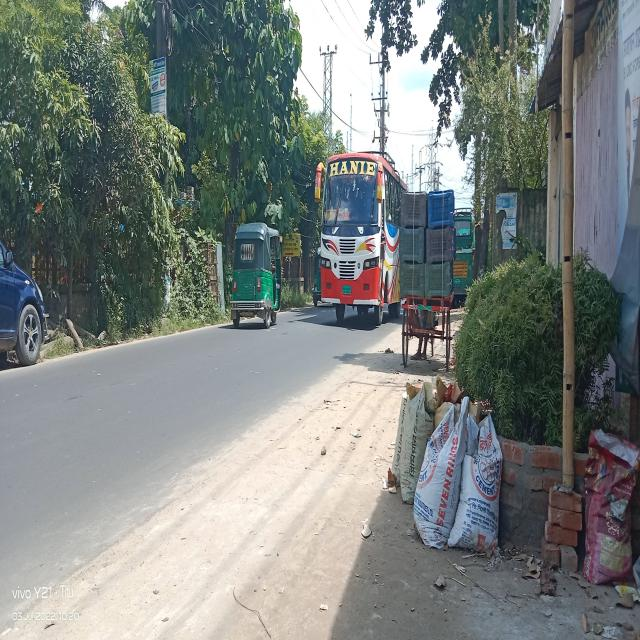bus: (311, 144, 405, 347)
